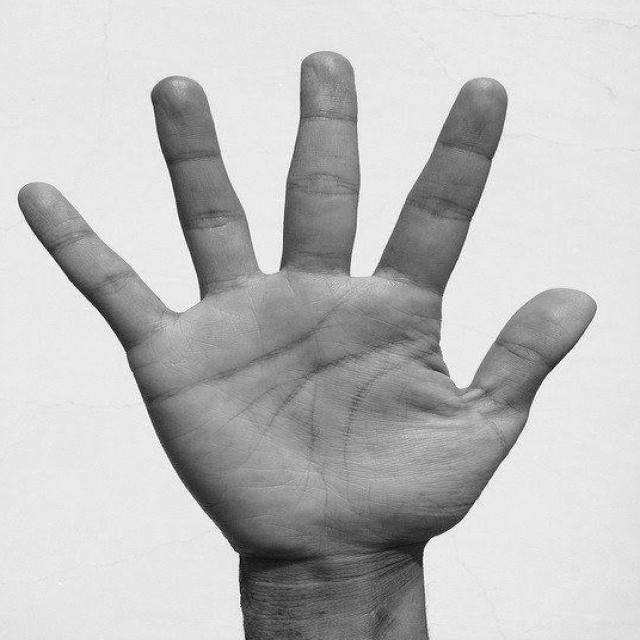stop: (8, 42, 606, 578)
